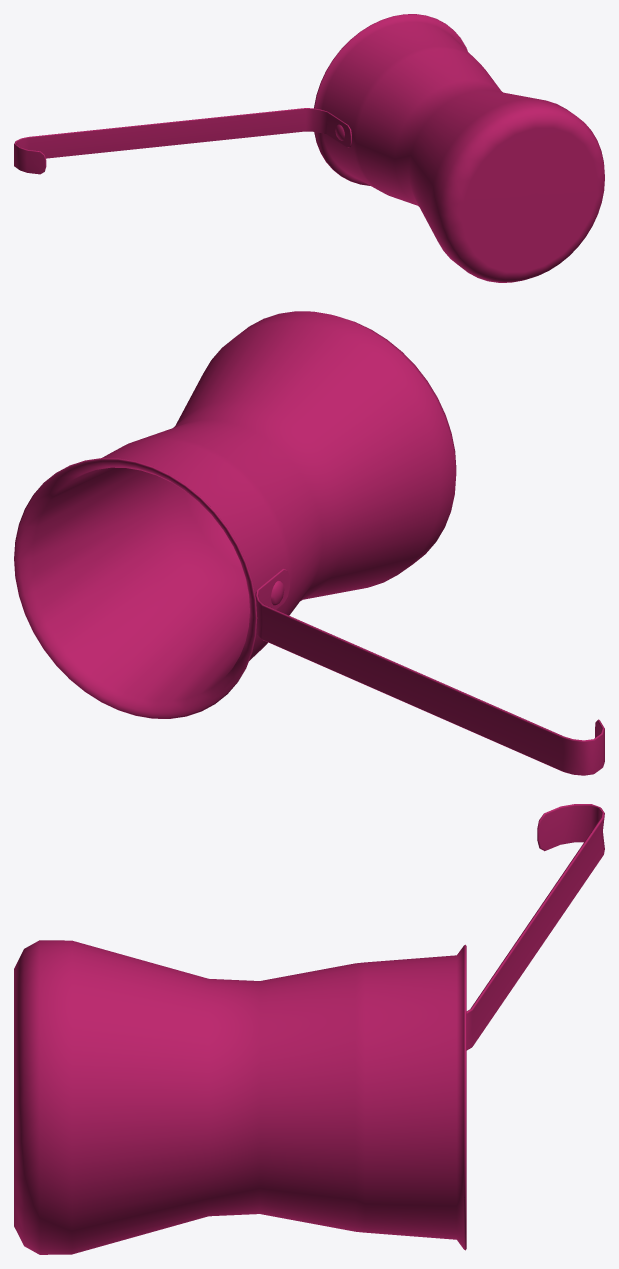
Rendered from SM_Dishes_13.fbx.
The picture shows the model from 3 angles, top to bottom: view 1: azimuth 30°, elevation 25°; view 2: azimuth 150°, elevation 25°; view 3: azimuth 270°, elevation 25°; orthographic projection. The views are drawn at different scales.
Visible parts, largest first — view 1: SM_Dishes_13; view 2: SM_Dishes_13; view 3: SM_Dishes_13.
Boxes of the visible parts, left/top/right/bottom form: SM_Dishes_13: left=14, top=14, right=604, bottom=282; SM_Dishes_13: left=14, top=311, right=604, bottom=775; SM_Dishes_13: left=14, top=804, right=604, bottom=1254.
Size of the model in its own units: 33.28 by 12.96 by 24.34.
